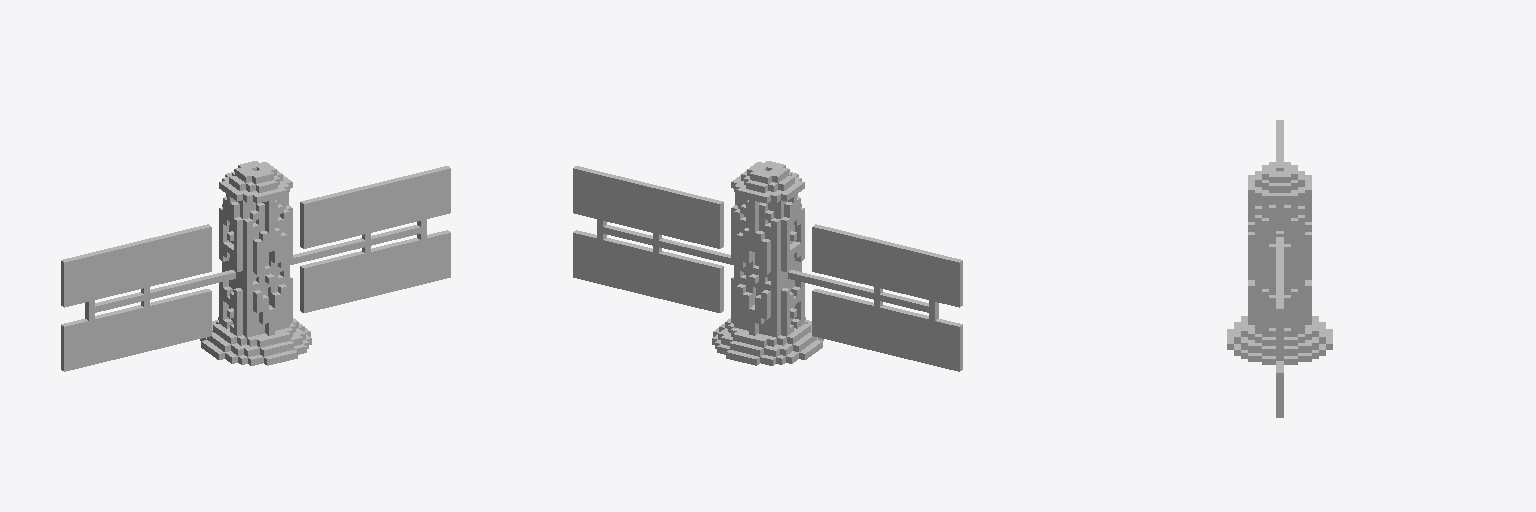
The model's file is satelite.obj.
3 views of the same model, side by side, from view 1: azimuth 30°, elevation 25°; view 2: azimuth 150°, elevation 25°; view 3: azimuth 270°, elevation 25° (orthographic).
Parts seen in each view (by area): view 1: object 1; view 2: object 1; view 3: object 1.
Boxes of the visible parts, x1=… form: object 1: x1=61, y1=161, x2=450, y2=371; object 1: x1=573, y1=161, x2=962, y2=371; object 1: x1=1227, y1=120, x2=1332, y2=417.
Size of the model in its own units: 6.3 by 2.7 by 1.5.